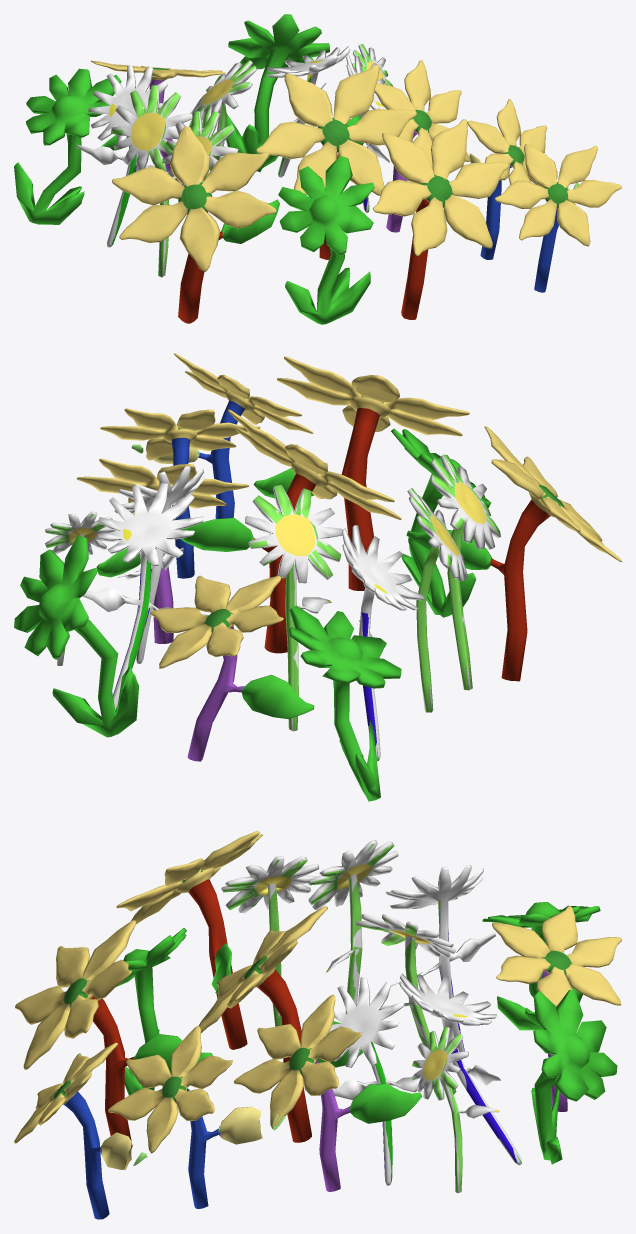
The model's file is Jardin_Flores-002_Flip_Normal.fbx.
3 renders of one model, top to bottom at view 1: azimuth 30°, elevation 25°; view 2: azimuth 150°, elevation 25°; view 3: azimuth 270°, elevation 25°, orthographic. The views are drawn at different scales.
Visible parts, largest first — view 1: Jardin_Flores_002_LOD0; view 2: Jardin_Flores_002_LOD0; view 3: Jardin_Flores_002_LOD0.
Part boxes in pixels (left/top/right/bottom): Jardin_Flores_002_LOD0: left=14, top=14, right=621, bottom=324; Jardin_Flores_002_LOD0: left=14, top=353, right=621, bottom=801; Jardin_Flores_002_LOD0: left=14, top=830, right=621, bottom=1219.
Size of what is drawn, in the model's own units: 1983 by 845 by 2050.
